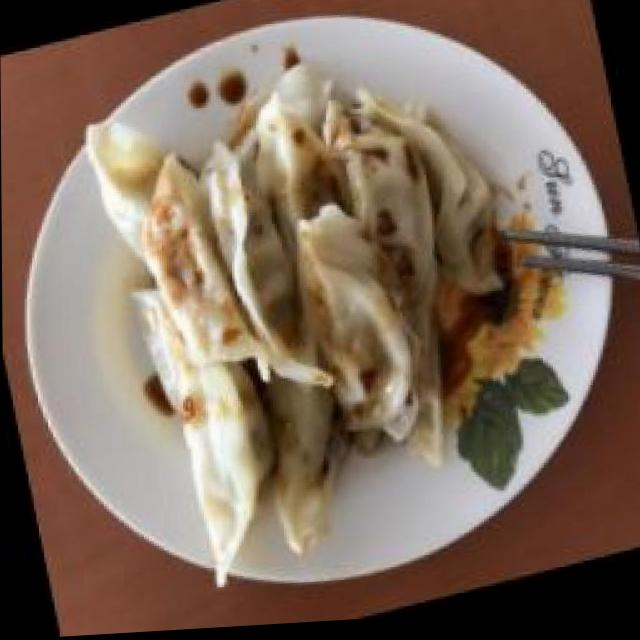fried_dumplings: (75, 24, 557, 605), (289, 195, 441, 475)
